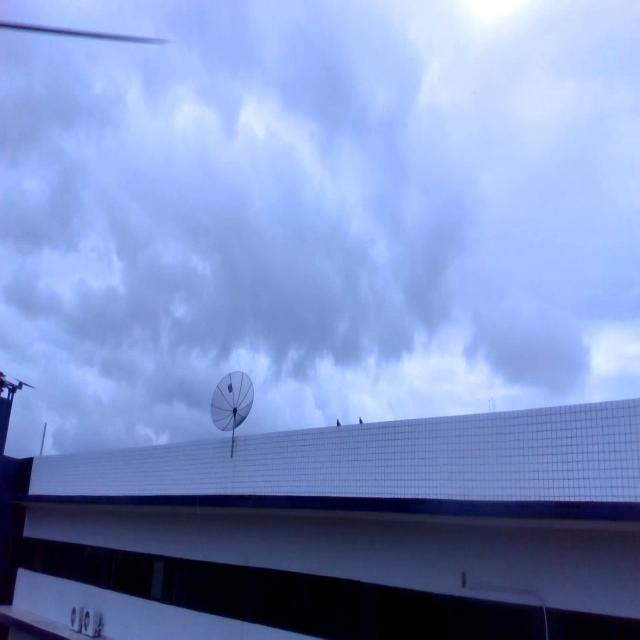-uav-: (0, 358, 27, 439)
